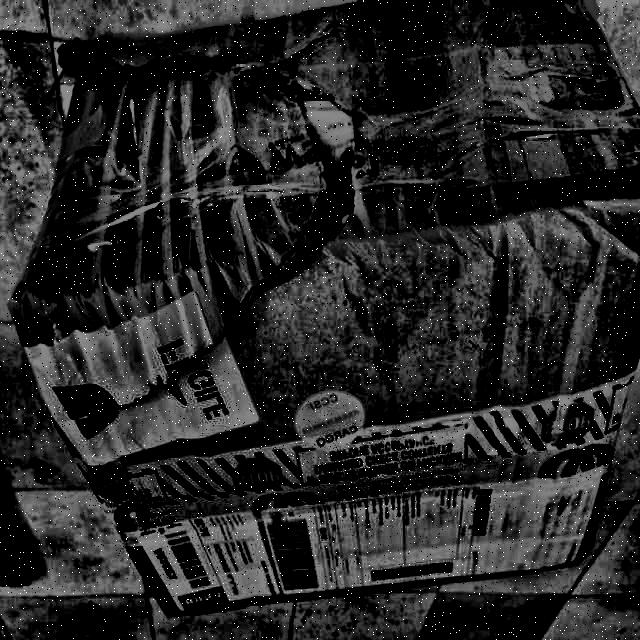box: (2, 1, 639, 625)
hole: (238, 61, 368, 296)
